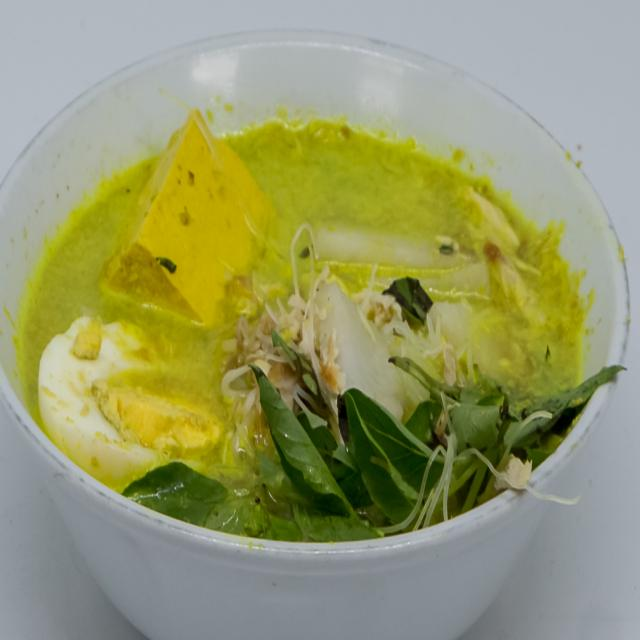Laksa-Bogor: (29, 98, 625, 560)
